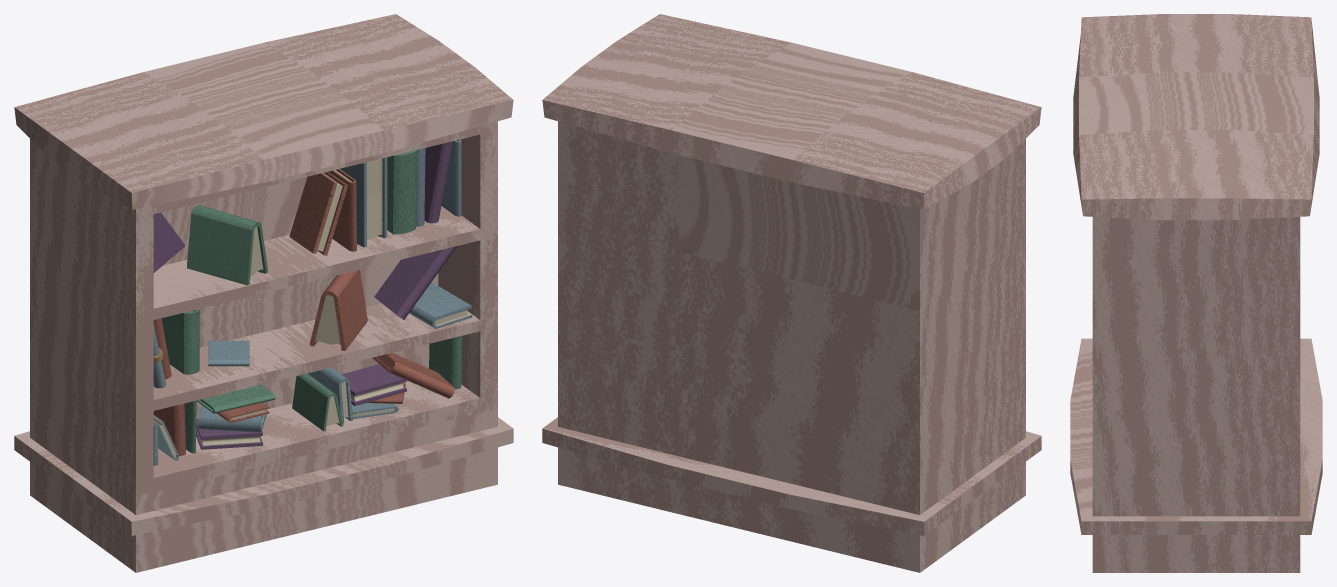
Rendered from bookshelf_full.fbx.
The picture shows the model from 3 angles, left to right: view 1: azimuth 30°, elevation 25°; view 2: azimuth 150°, elevation 25°; view 3: azimuth 270°, elevation 25°; orthographic projection. The views are drawn at different scales.
Parts seen in each view (by area): view 1: polySurface758; view 2: polySurface758; view 3: polySurface758.
Boxes of the visible parts, box(x1,y1,x2,y2) form: polySurface758: box(14, 14, 513, 572); polySurface758: box(542, 14, 1041, 572); polySurface758: box(1070, 14, 1322, 572).
Size of the model in its own units: 166 by 158 by 93.73.
Materials: 8 (6 with a texture image).
